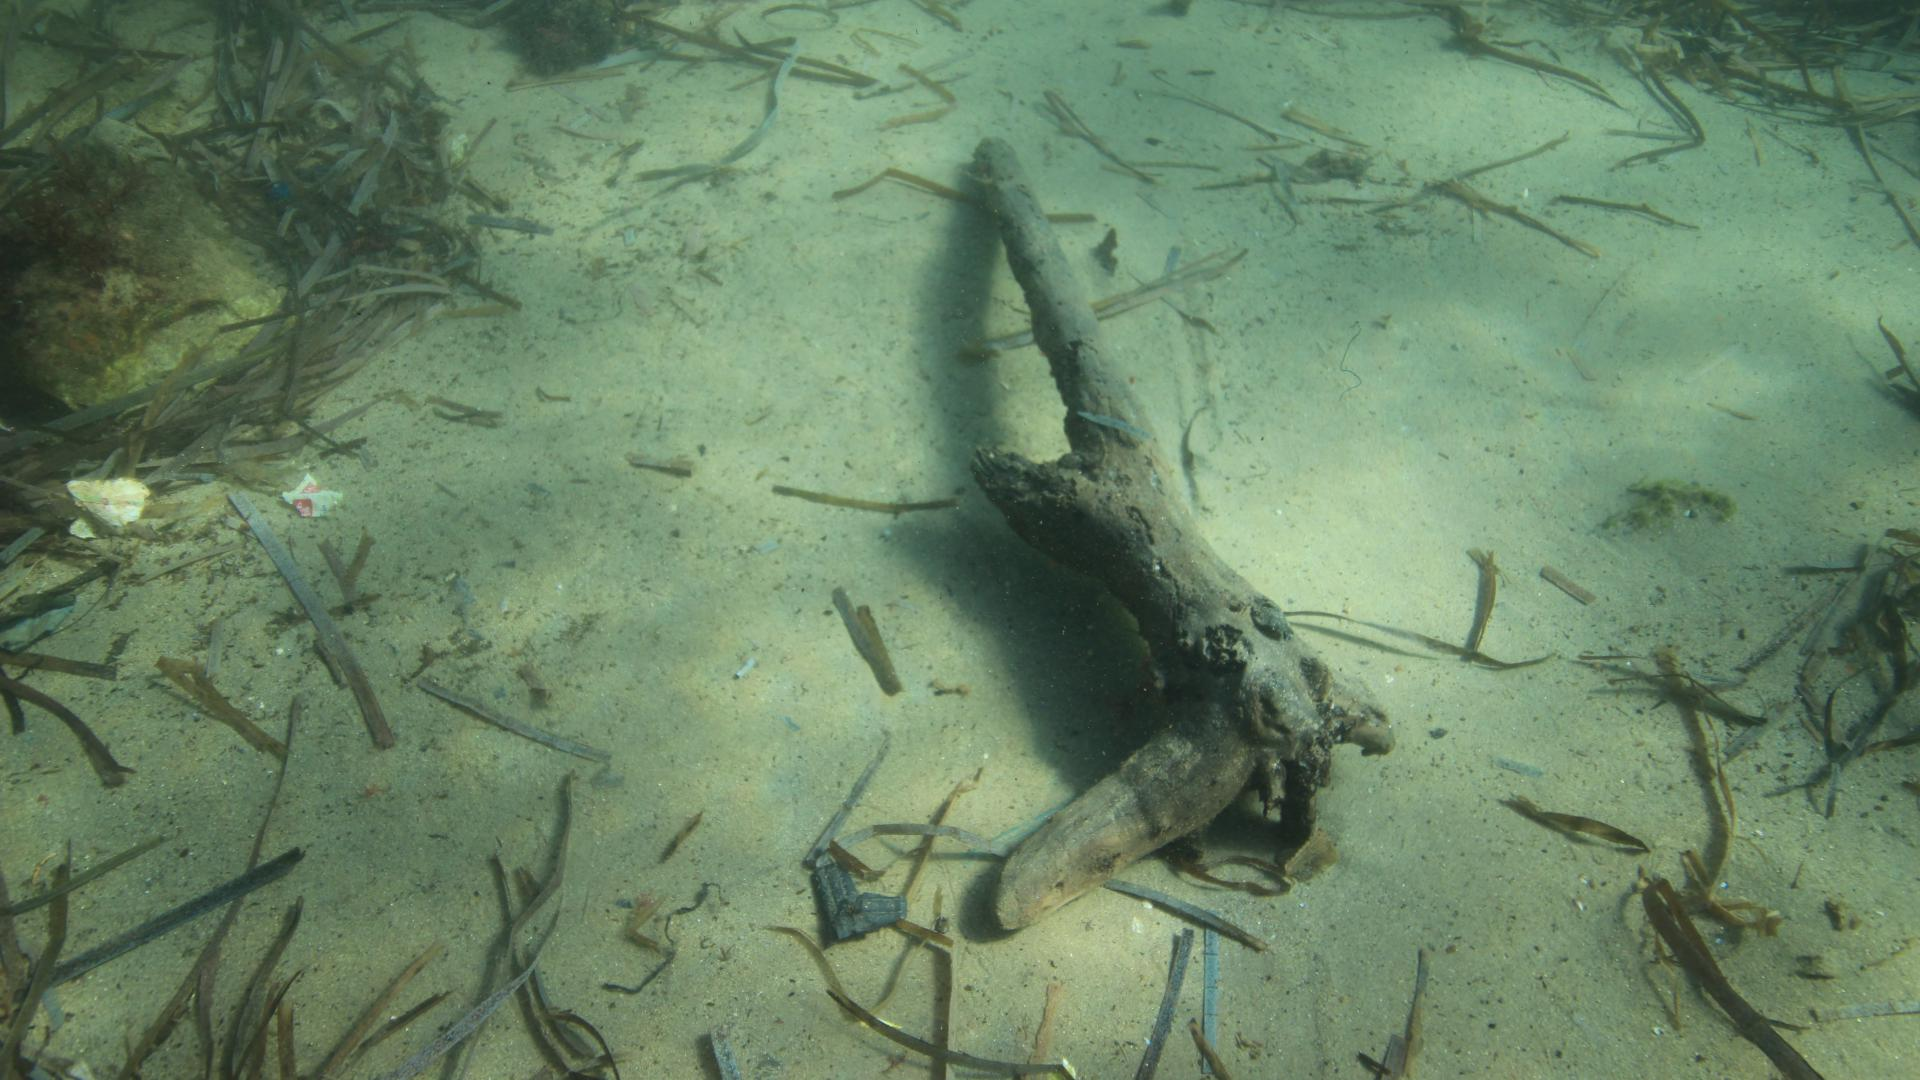wood: (971, 135, 1398, 932)
